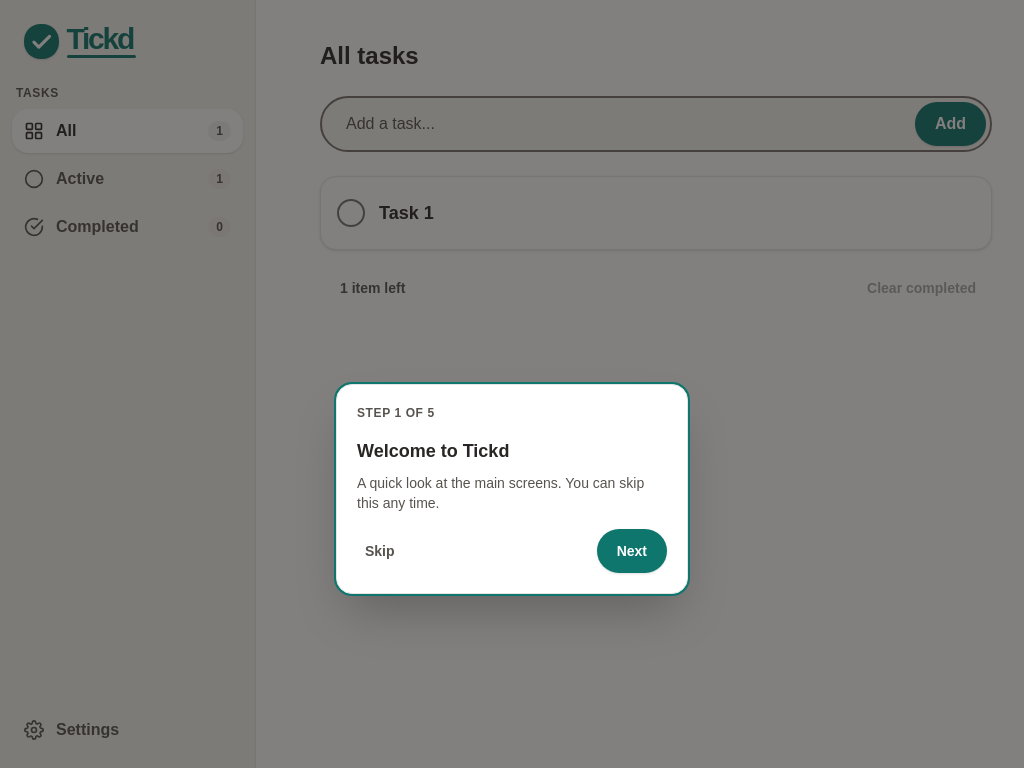
Test: progression › returns to the previous step and hides Back on the first one
The width and height of the screenshot is (1024, 768).
Expected: the dialog is shown, [336, 384, 688, 594]
Expected: the button "Back" is not shown
Click the button "Next": (632, 551) [597, 529, 667, 573]
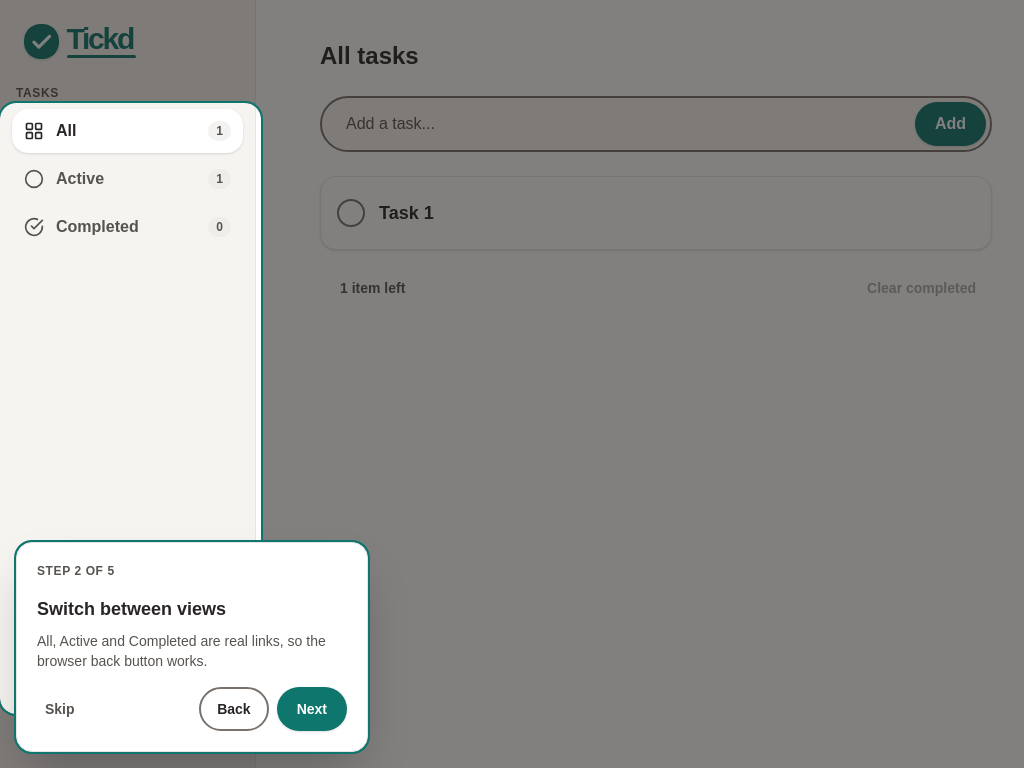
Result: the text "Step 2 of 5" is shown at [37, 564, 115, 578]
Click the button "Back": (234, 709) [199, 687, 269, 731]
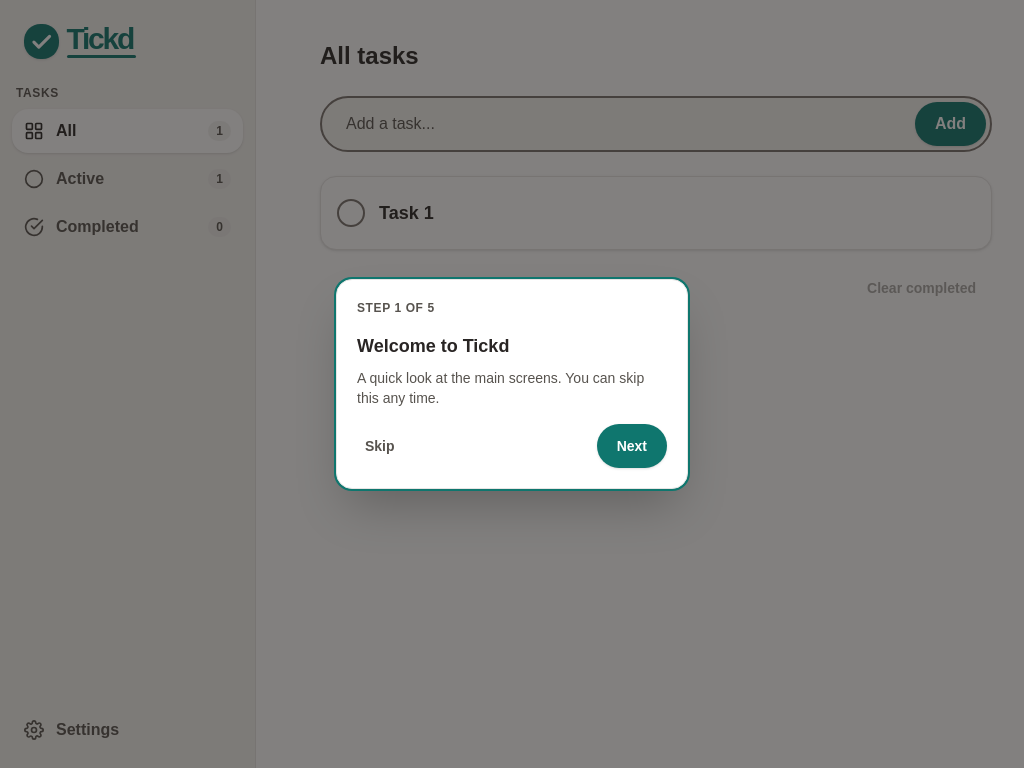
Result: the text "Step 1 of 5" is shown at [357, 301, 435, 315]
